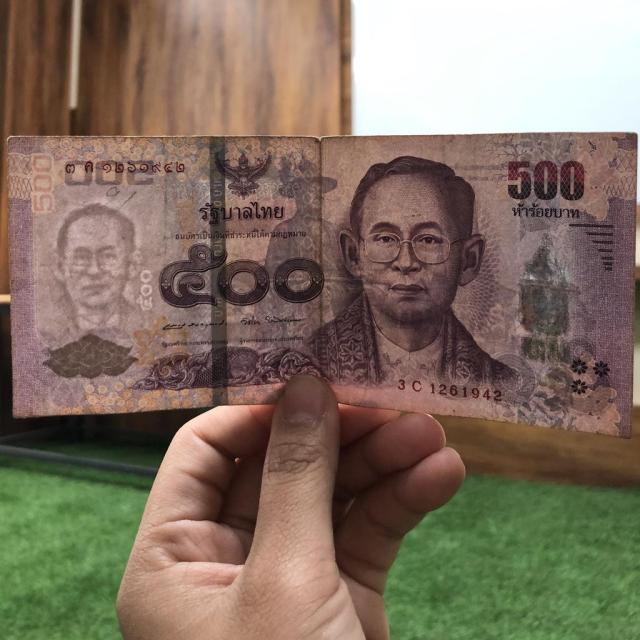THAI500: (7, 133, 636, 438)
